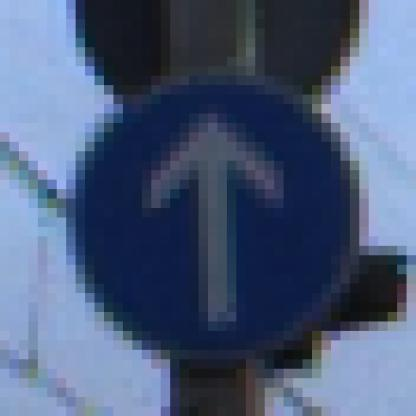AheadOnly: (58, 58, 370, 370)
